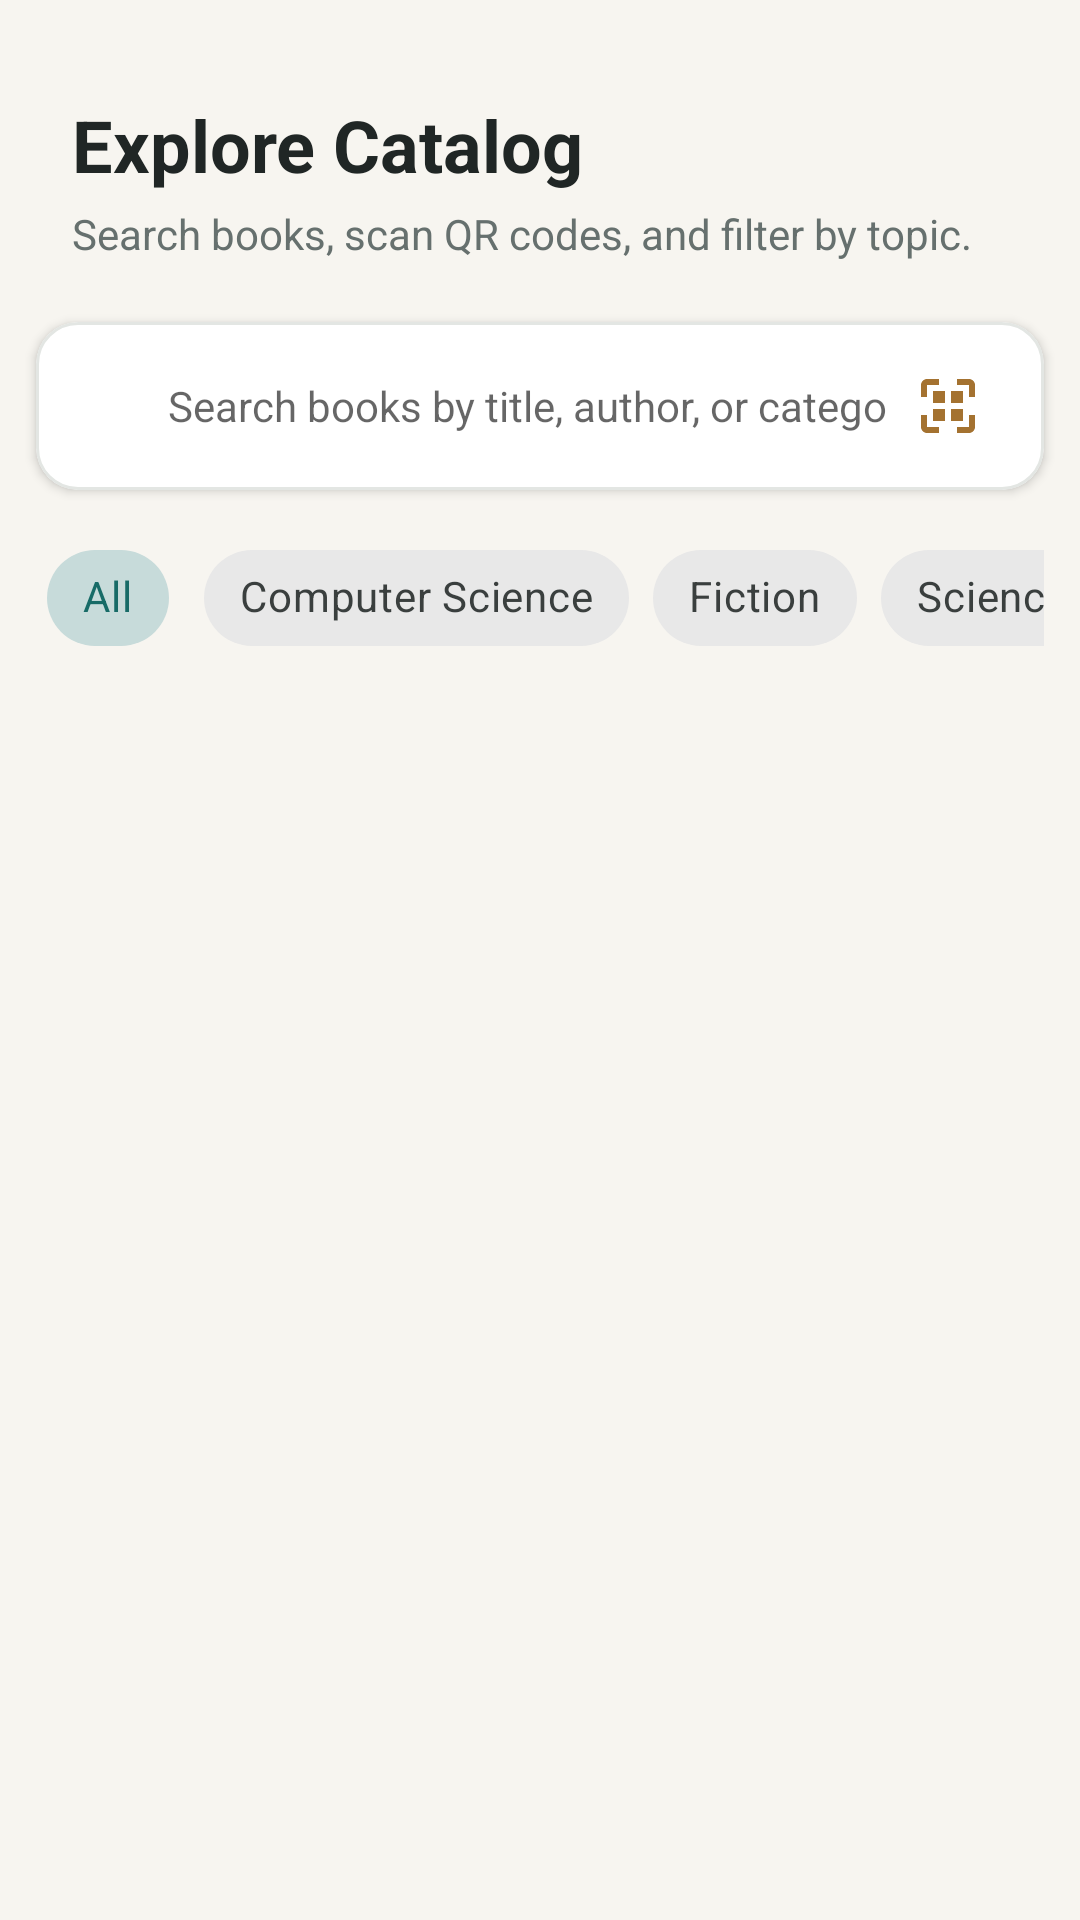

Screen size 1080 × 1920. Icon name, then its box in pixels as (x1, y1, x2, y2):
Scan Book QR Code: (921, 379, 975, 433)
